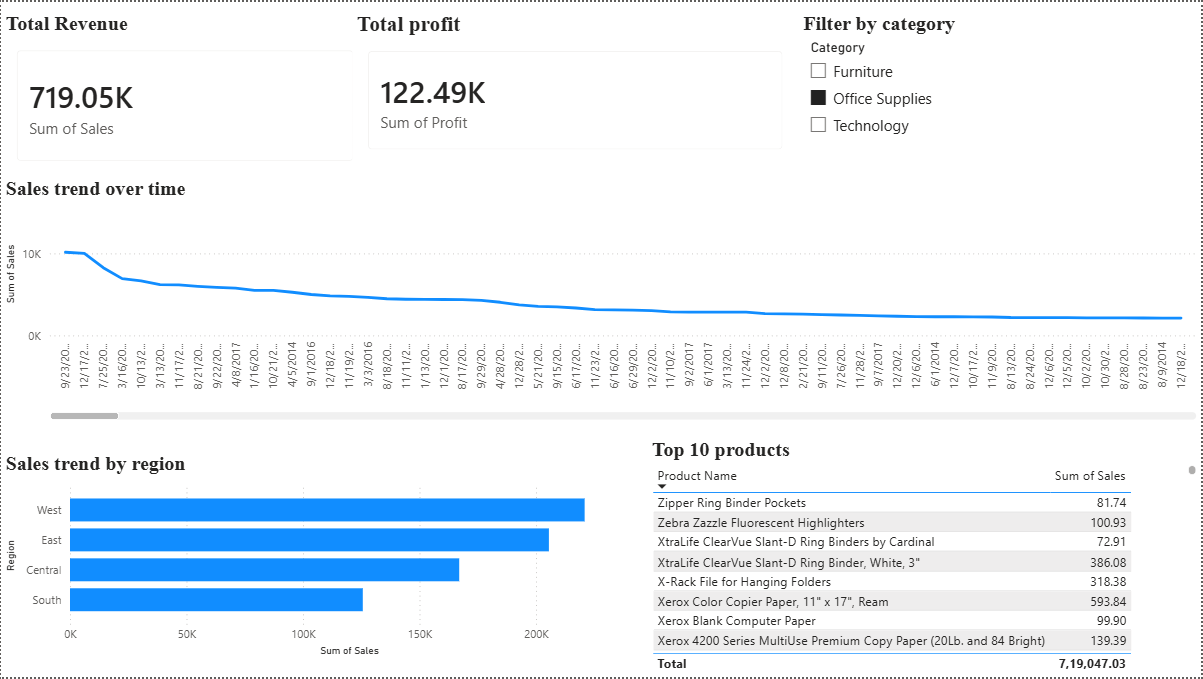

Layout of this report page (visuals, bound fields, positions):
{"tool":"powerbi","page":{"name":"Page 1","canvas":[1280,720],"ordinal":0},"visuals":[{"type":"cardVisual","title":"Total Revenue","fields":{"Data":["Sum(Sample - Superstore.Sales)"]},"box":[0,10.7,393.3,176],"z":0},{"type":"barChart","title":"Sales trend over time ","fields":{"Category":["Sample - Superstore.Region"],"Y":["Sum(Sample - Superstore.Sales)"]},"box":[0,480,689.3,222.7],"z":1000},{"type":"tableEx","title":"Top 10 products  ","fields":{"Values":["Sample - Superstore.Product Name","Sum(Sample - Superstore.Sales)"]},"box":[689.3,465.3,590.7,254.7],"z":2000},{"type":"cardVisual","title":"Total profit ","fields":{"Data":["Sum(Sample - Superstore.Profit)"]},"box":[374.7,10.7,476,164],"z":3000},{"type":"slicer","title":"Filter by category ","fields":{"Values":["Sample - Superstore.Category"]},"box":[850.7,10.7,429.3,164],"z":4000},{"type":"lineChart","title":"Sales trend over time ","fields":{"Category":["Sample - Superstore.Order Date"],"Y":["Sum(Sample - Superstore.Sales)"]},"box":[0,186.7,1280,264],"z":5000}]}

Visuals, with their boxes in screenshot pixels (x1, y1, x2, y2), scaled from the page's 1280x720 canvas onto the 1203x679 screenshot:
"Total Revenue" cardVisual: rect(0, 10, 370, 176)
"Sales trend over time " barChart: rect(0, 453, 648, 663)
"Top 10 products  " tableEx: rect(648, 439, 1202, 678)
"Total profit " cardVisual: rect(352, 10, 800, 165)
"Filter by category " slicer: rect(800, 10, 1202, 165)
"Sales trend over time " lineChart: rect(0, 176, 1202, 425)
